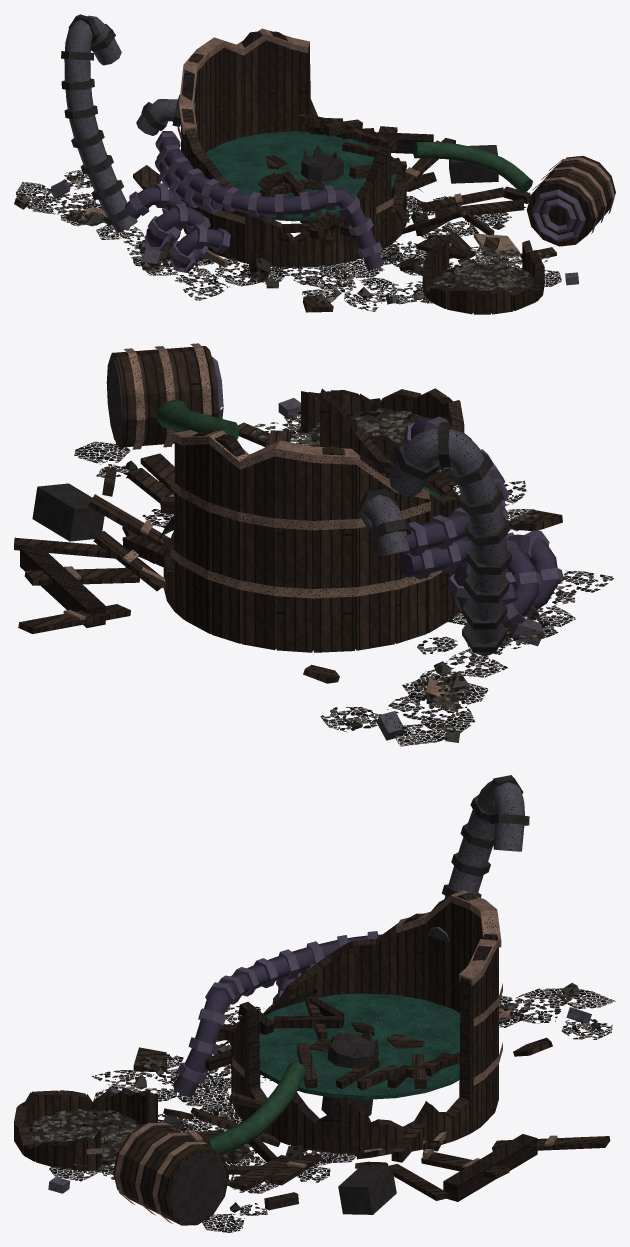
The model's file is CreInvent01a.glb.
3 views of the same model, one above another, from view 1: azimuth 30°, elevation 25°; view 2: azimuth 150°, elevation 25°; view 3: azimuth 270°, elevation 25° (orthographic). The views are drawn at different scales.
Visible parts, largest first — view 1: i1_stave; view 2: i1_stave; view 3: i1_stave.
Part boxes in pixels (bbox=[...]): i1_stave: bbox=[14, 14, 615, 314]; i1_stave: bbox=[14, 343, 613, 746]; i1_stave: bbox=[14, 775, 615, 1232].
Size of the model in its own units: 7.82 by 3.61 by 8.02.
Materials: 11 (11 with a texture image).
